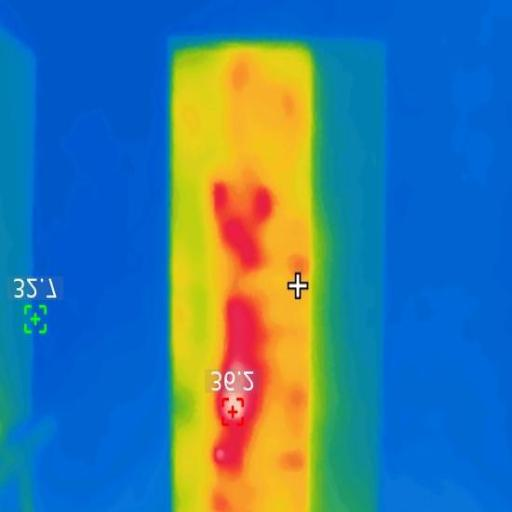hotspot: (222, 361, 262, 431), (230, 296, 257, 354), (228, 224, 262, 266), (214, 182, 230, 218), (257, 190, 270, 230), (213, 441, 231, 469)
